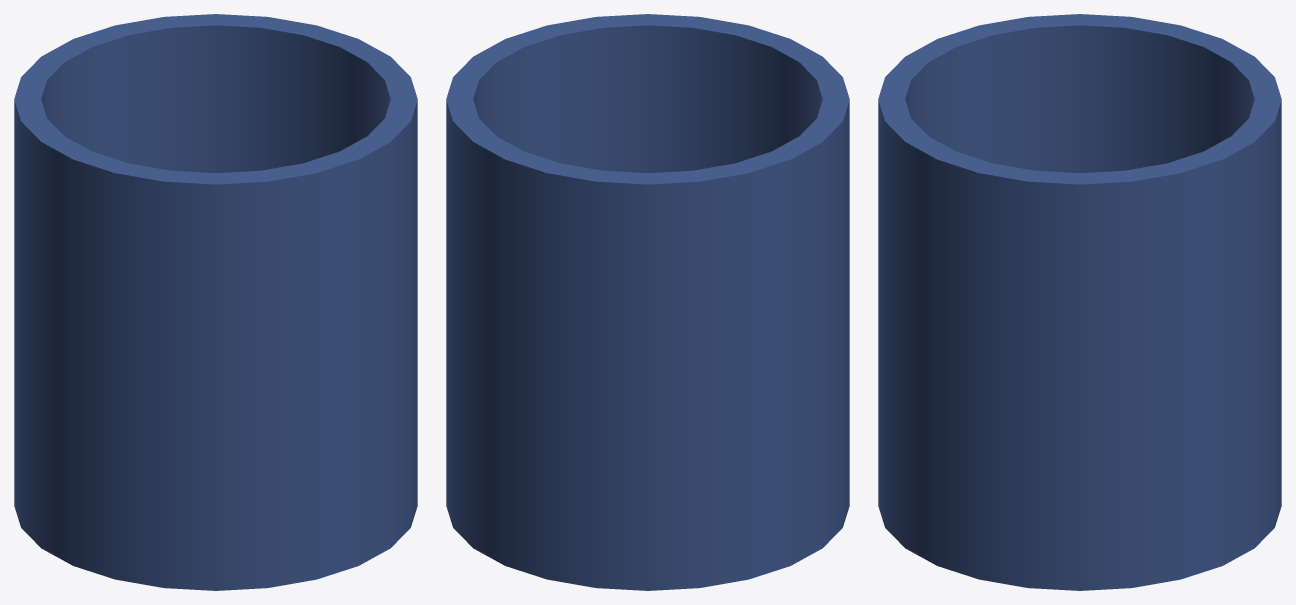
Rendered from mug.fbx.
3 renders of one model, left to right at view 1: azimuth 30°, elevation 25°; view 2: azimuth 150°, elevation 25°; view 3: azimuth 270°, elevation 25°, orthographic.
Visible parts, largest first — view 1: Model; view 2: Model; view 3: Model.
Boxes of the visible parts, x1,y1,x2,y2 form: Model: (14,14,417,590); Model: (446,14,849,590); Model: (878,14,1281,590).
Bounding box in the file's own units: 0.9 × 1 × 0.9.
